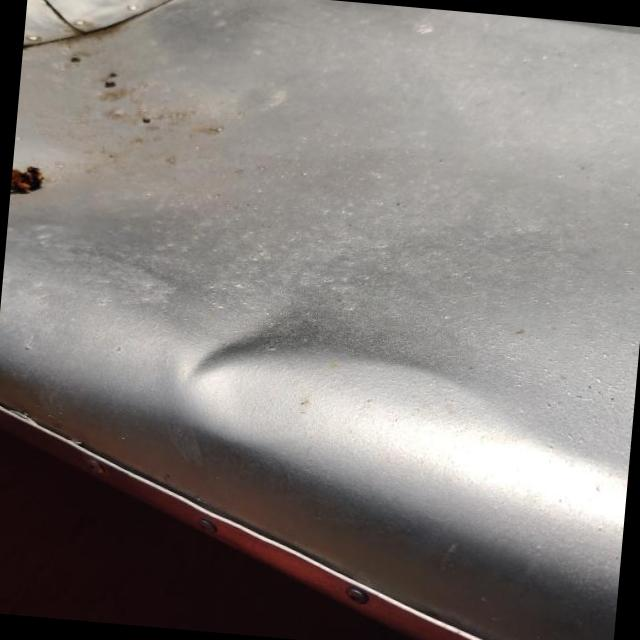Dent: (171, 276, 356, 394)
